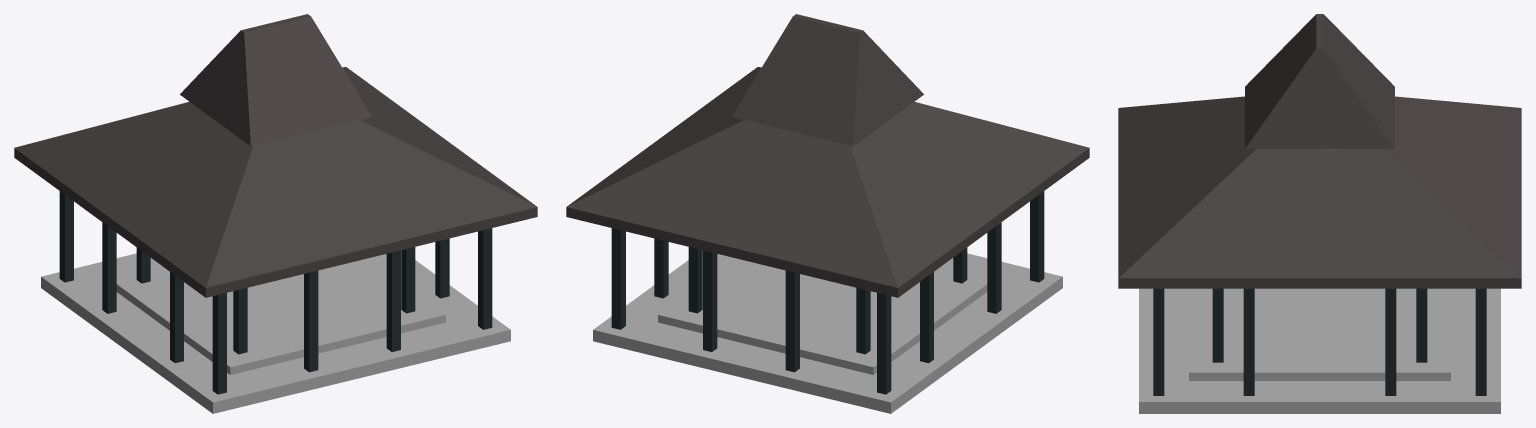
The model's file is B_Trajumas.fbx.
3 views of the same model, side by side, from view 1: azimuth 30°, elevation 25°; view 2: azimuth 150°, elevation 25°; view 3: azimuth 270°, elevation 25° (orthographic). The views are drawn at different scales.
Visible parts, largest first — view 1: B_Trajumas; view 2: B_Trajumas; view 3: B_Trajumas.
Part boxes in pixels (box(x1,y1,x2,y2)): B_Trajumas: box(14, 14, 537, 413); B_Trajumas: box(566, 14, 1089, 413); B_Trajumas: box(1118, 14, 1521, 413).
Bounding box in the file's own units: 341 × 286 × 341.
Materials: 1 (1 with a texture image).
